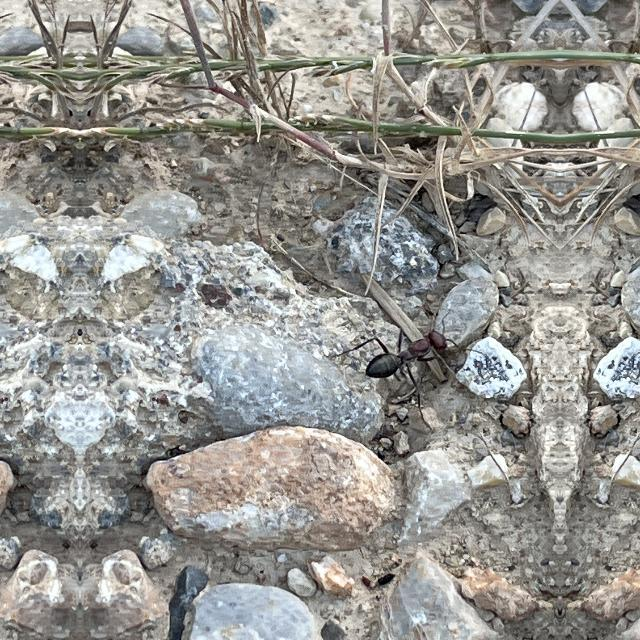Cataglyphis: (352, 308, 462, 409)
